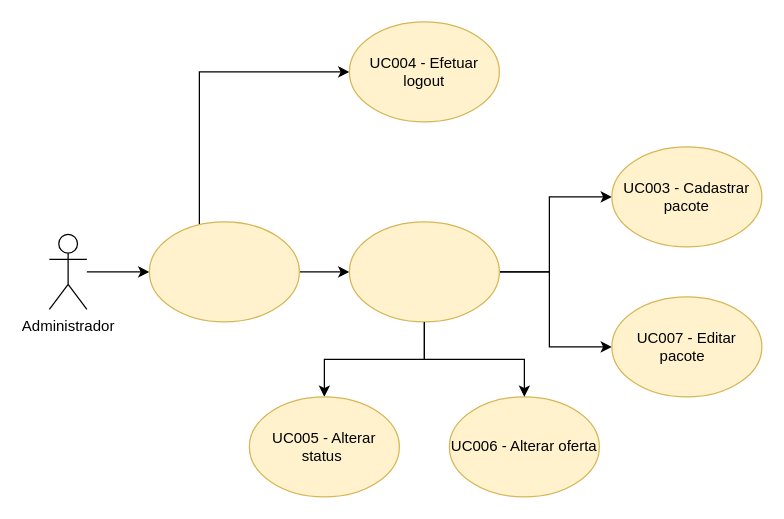
Some shapes in this 784 by 519 pixel diagram are drawn without their labels. The shapes that lost their labels are listed below. From the top down, each one's centre as x and y in pixels, then its label:
the point at 223,271: UC001 - Efetuar Login
the point at 423,271: UC002 - Listar pacotes
